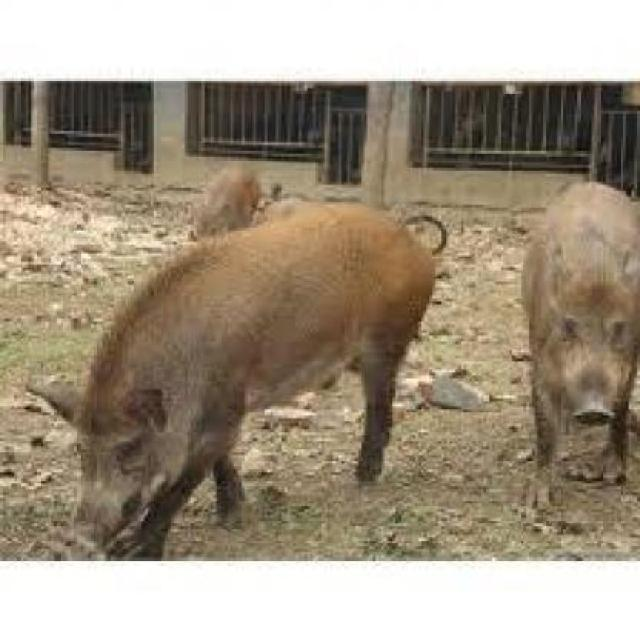wildboar: (20, 190, 466, 562), (504, 172, 640, 543), (175, 162, 276, 273)
